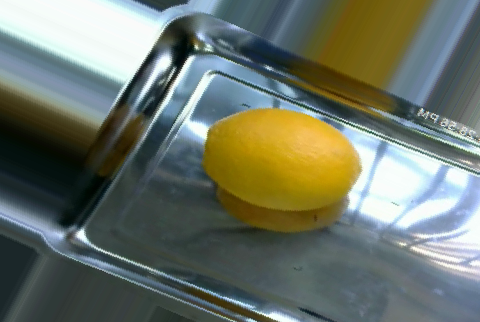Orange: (202, 108, 363, 210)
